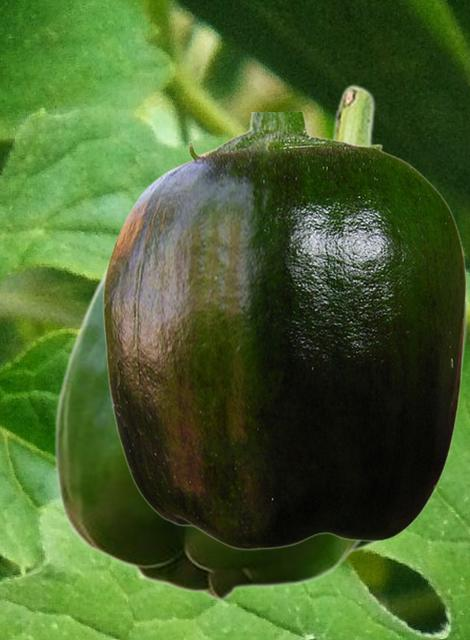bell_pepper: (102, 112, 466, 549), (53, 250, 365, 600), (328, 83, 467, 556)
